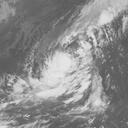cyclone: (36, 49, 91, 103)
